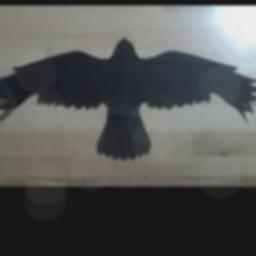Crow: (0, 37, 256, 160)
